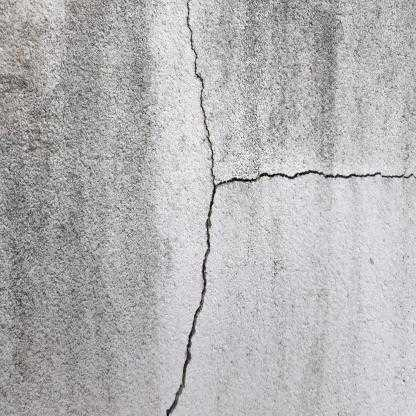crack: (166, 0, 416, 415)
